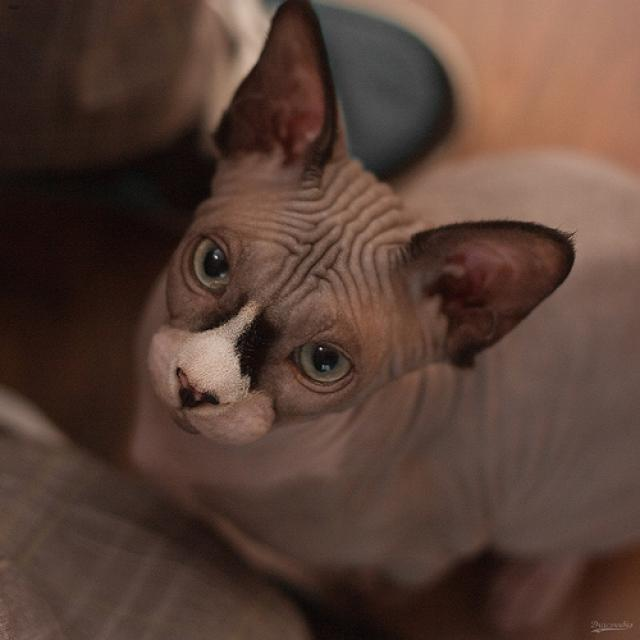Sphynx: (146, 0, 573, 448)
